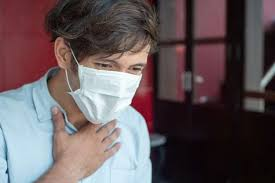with-mask: (50, 1, 156, 129)
